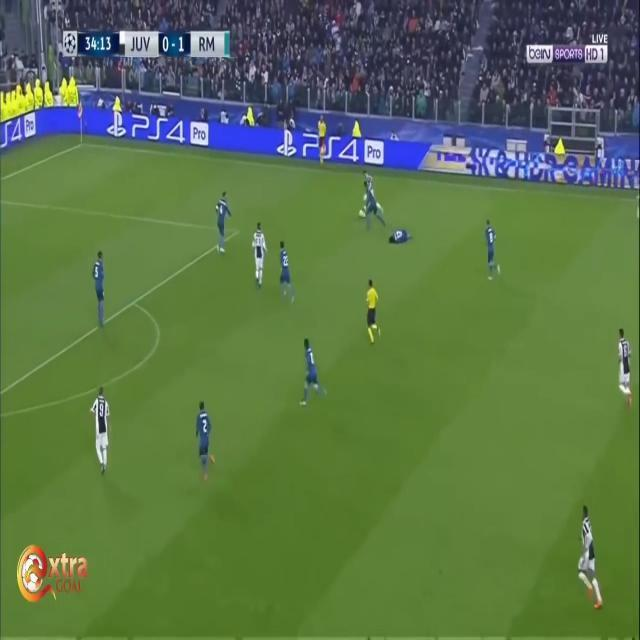ball: (356, 208, 364, 221)
player: (572, 498, 604, 614), (89, 383, 114, 478), (301, 336, 324, 411), (195, 397, 215, 479), (616, 329, 635, 410), (91, 250, 109, 334), (214, 191, 234, 259), (363, 178, 382, 236), (276, 239, 293, 300), (252, 227, 267, 290), (484, 220, 498, 279)
referee: (364, 279, 385, 351), (312, 111, 334, 178)
